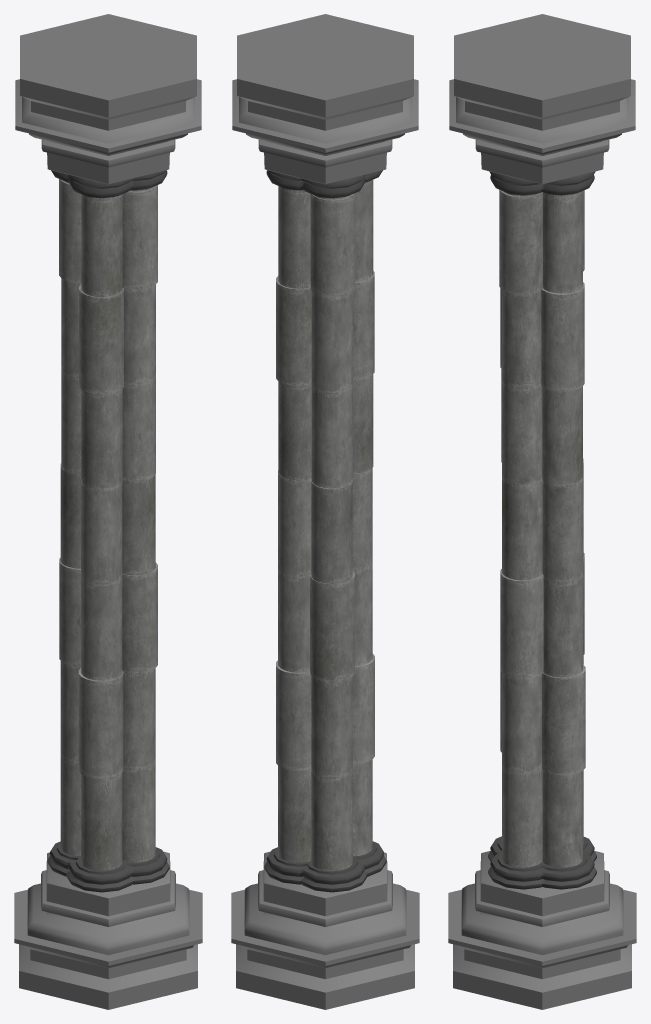
Rendered from SM_pillar_large_07.fbx.
3 renders of one model, left to right at view 1: azimuth 30°, elevation 25°; view 2: azimuth 150°, elevation 25°; view 3: azimuth 270°, elevation 25°, orthographic.
Visible parts, largest first — view 1: DarkFantasyObject07; view 2: DarkFantasyObject07; view 3: DarkFantasyObject07.
Boxes of the visible parts, <box> form: DarkFantasyObject07: <box>14,14,202,1009</box>; DarkFantasyObject07: <box>231,14,419,1009</box>; DarkFantasyObject07: <box>448,14,636,1009</box>.
Size of the model in its own units: 85.83 by 396 by 74.33.
